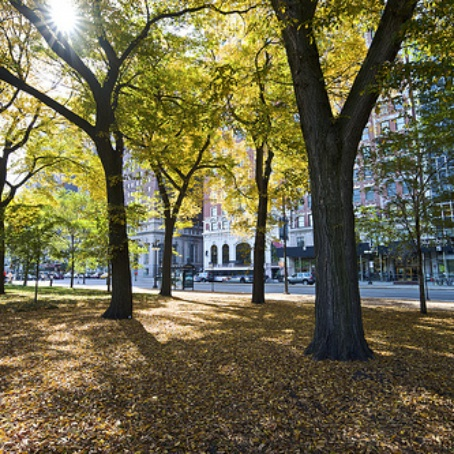building: (208, 22, 454, 279), (124, 101, 191, 273)
tree: (1, 1, 205, 331), (264, 1, 391, 354), (113, 45, 240, 296), (227, 75, 302, 313)
